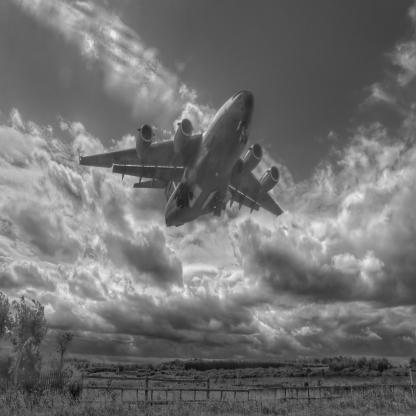C17: (80, 91, 286, 229)
